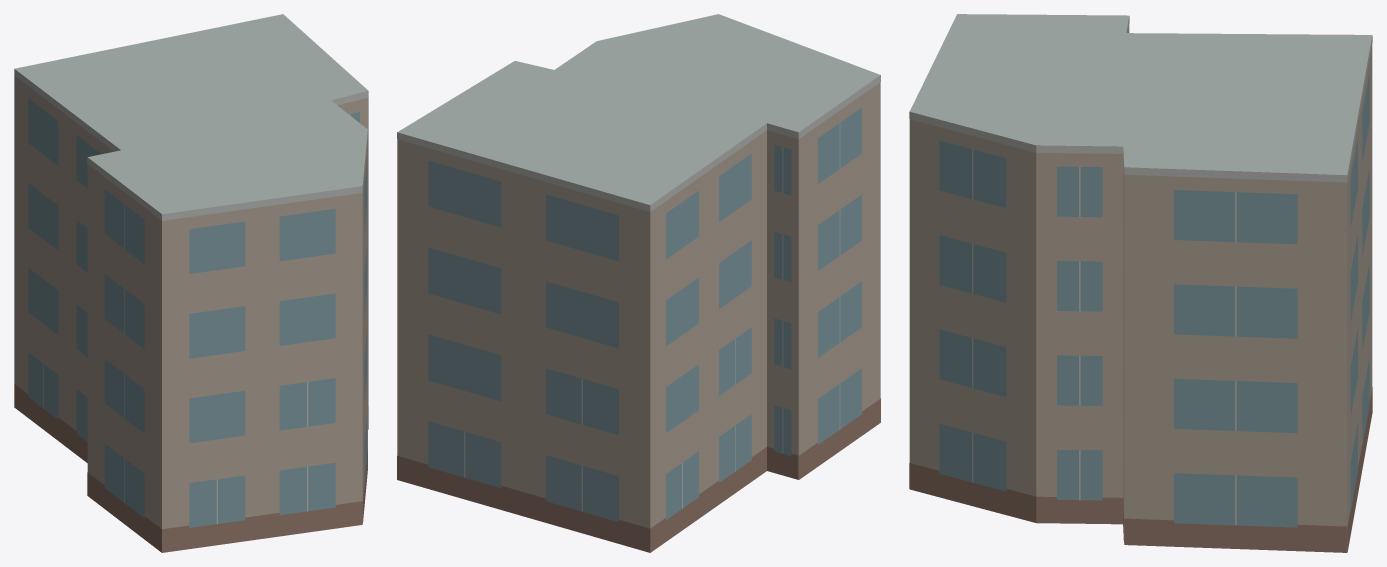
File: survey-upis-33004285.glb
3 views of the same model, side by side, from view 1: azimuth 30°, elevation 25°; view 2: azimuth 150°, elevation 25°; view 3: azimuth 270°, elevation 25° (orthographic). The views are drawn at different scales.
Parts seen in each view (by area): view 1: survey-upis-33004285.tmp; view 2: survey-upis-33004285.tmp; view 3: survey-upis-33004285.tmp.
Part boxes in pixels (x1,y1,x2,y2): survey-upis-33004285.tmp: (14, 14, 368, 552); survey-upis-33004285.tmp: (397, 14, 880, 552); survey-upis-33004285.tmp: (909, 14, 1372, 552).
Bounding box in the file's own units: 11.36 × 12.4 × 13.78.
